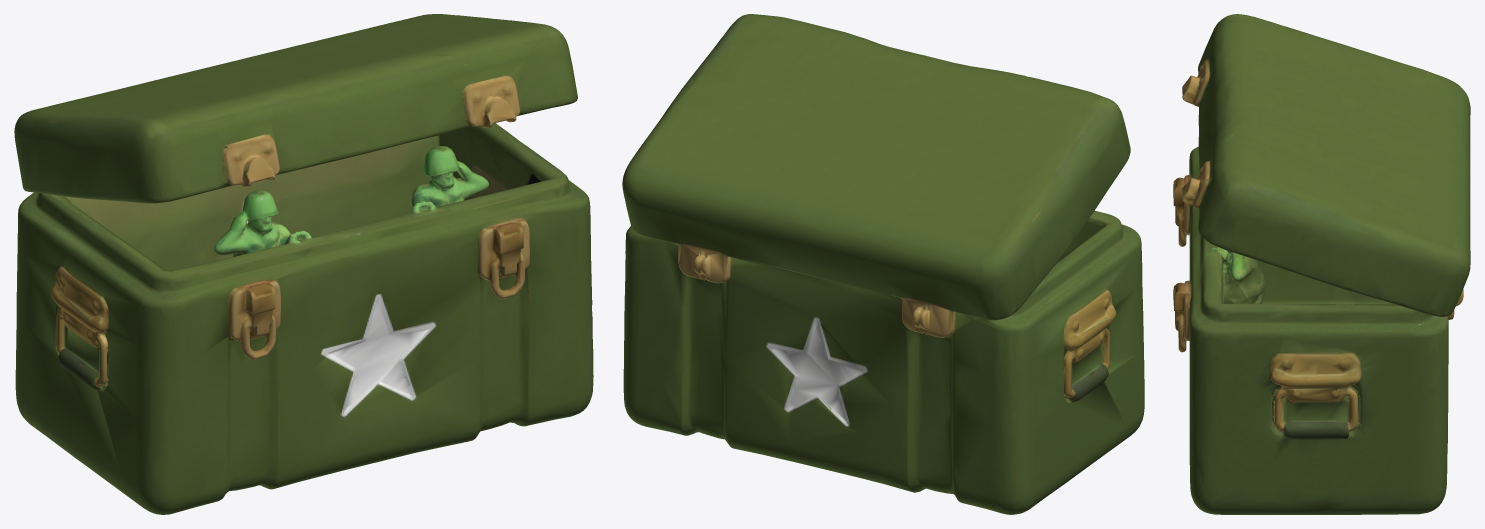
Rendered from chest-classic.glb.
The picture shows the model from 3 angles, left to right: view 1: azimuth 30°, elevation 25°; view 2: azimuth 150°, elevation 25°; view 3: azimuth 270°, elevation 25°; orthographic projection. The views are drawn at different scales.
Parts seen in each view (by area): view 1: Mesh_0; view 2: Mesh_0; view 3: Mesh_0.
Part boxes in pixels (left/top/right/bottom): Mesh_0: left=14, top=14, right=593, bottom=514; Mesh_0: left=622, top=14, right=1144, bottom=514; Mesh_0: left=1173, top=14, right=1470, bottom=514.
Size of the model in its own units: 1.9 by 1.48 by 1.21.
Materials: 1 (1 with a texture image).
